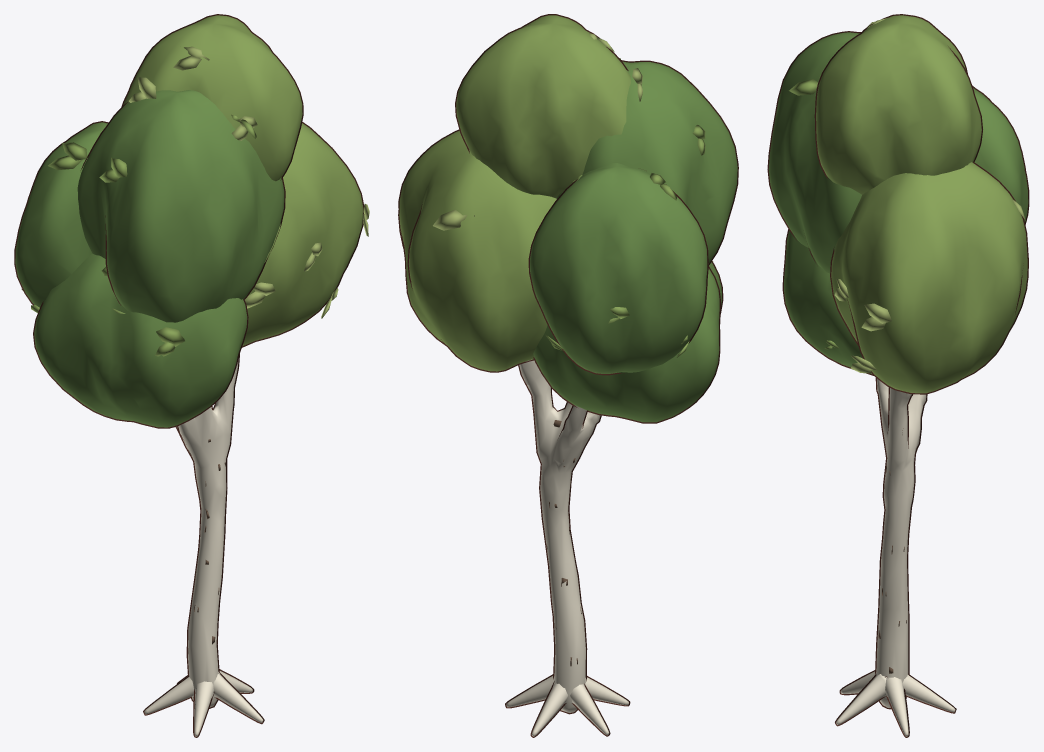
Rendered from birke.glb.
3 views of the same model, side by side, from view 1: azimuth 30°, elevation 25°; view 2: azimuth 150°, elevation 25°; view 3: azimuth 270°, elevation 25° (orthographic).
Visible parts, largest first — view 1: Crown_1_Mesh.002, Crown_2_Mesh.002, Trunk_Branches.003, LeafDetails_SummerGreen_3, LeafDetails_SummerGreen_2, Outline_Trunk_Bark_BirchWhite, Outline_Crown_SummerGreen_1, Outline_Crown_SummerGreen_2; view 2: Crown_1_Mesh.002, Crown_2_Mesh.002, Trunk_Branches.003, Outline_Trunk_Bark_BirchWhite, Outline_Crown_SummerGreen_1, Outline_Crown_SummerGreen_2, LeafDetails_SummerGreen_2, LeafDetails_SummerGreen_3; view 3: Crown_2_Mesh.002, Crown_1_Mesh.002, Trunk_Branches.003, Outline_Trunk_Bark_BirchWhite, Outline_Crown_SummerGreen_2, LeafDetails_SummerGreen_3, Outline_Crown_SummerGreen_1.
Part boxes in pixels (box(x1,y1,x2,y2)): Crown_1_Mesh.002: box(15, 90, 284, 427); Crown_2_Mesh.002: box(123, 15, 363, 346); Trunk_Branches.003: box(144, 359, 263, 736); LeafDetails_SummerGreen_3: box(128, 46, 369, 318); LeafDetails_SummerGreen_2: box(21, 114, 256, 356); Outline_Trunk_Bark_BirchWhite: box(143, 354, 264, 737); Outline_Crown_SummerGreen_1: box(14, 101, 285, 428); Outline_Crown_SummerGreen_2: box(121, 14, 364, 347); Crown_1_Mesh.002: box(530, 61, 737, 422); Crown_2_Mesh.002: box(399, 15, 630, 371); Trunk_Branches.003: box(506, 359, 628, 736); Outline_Trunk_Bark_BirchWhite: box(505, 365, 630, 737); Outline_Crown_SummerGreen_1: box(528, 60, 738, 423); Outline_Crown_SummerGreen_2: box(398, 14, 628, 372); LeafDetails_SummerGreen_2: box(545, 58, 713, 357); LeafDetails_SummerGreen_3: box(433, 33, 642, 230); Crown_2_Mesh.002: box(816, 15, 1027, 393); Crown_1_Mesh.002: box(768, 32, 1028, 373); Trunk_Branches.003: box(836, 378, 955, 736); Outline_Trunk_Bark_BirchWhite: box(835, 377, 956, 737); Outline_Crown_SummerGreen_2: box(814, 14, 1028, 394); LeafDetails_SummerGreen_3: box(815, 18, 1025, 373); Outline_Crown_SummerGreen_1: box(767, 31, 1029, 375).
Size of the model in its own units: 3.12 by 6.32 by 2.16.
